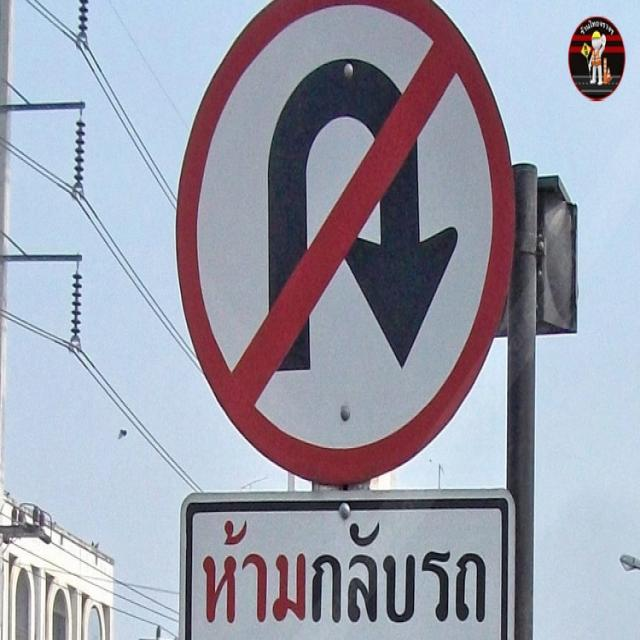Demi-Tour-Interdit: (174, 10, 505, 456)
